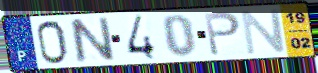0: (161, 13, 200, 59), (35, 19, 70, 65)
4: (123, 13, 159, 62)
N: (66, 15, 117, 66), (239, 8, 288, 57)
P: (202, 10, 243, 58)
